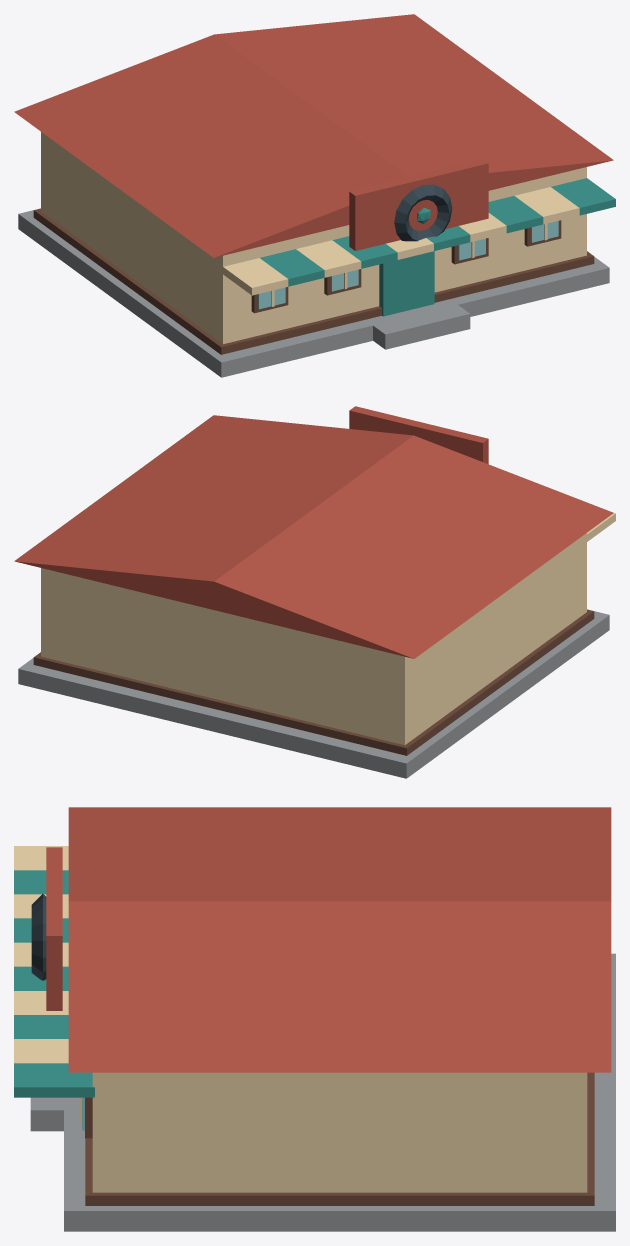
The model's file is storefront_records.glb.
3 renders of one model, top to bottom at view 1: azimuth 30°, elevation 25°; view 2: azimuth 150°, elevation 25°; view 3: azimuth 270°, elevation 25°, orthographic. The views are drawn at different scales.
Parts seen in each view (by area): view 1: gable_roof, walls, foundation, signboard, cornice, step, door, vinyl, awning, awning.002, awning.001, awning.008 (+6 smaller); view 2: gable_roof, walls, foundation, cornice, signboard; view 3: gable_roof, walls, foundation, cornice, signboard, awning.009, awning.008, awning.007, vinyl, step, awning, awning.006 (+5 smaller).
Boxes of the visible parts, x1=… form: gable_roof: x1=14, y1=14, x2=613, y2=257; walls: x1=41, y1=132, x2=586, y2=344; foundation: x1=18, y1=210, x2=609, y2=377; signboard: x1=349, y1=159, x2=488, y2=250; cornice: x1=33, y1=208, x2=594, y2=354; step: x1=366, y1=299, x2=470, y2=349; door: x1=379, y1=251, x2=434, y2=316; vinyl: x1=394, y1=184, x2=452, y2=241; awning: x1=222, y1=258, x2=288, y2=295; awning.002: x1=296, y1=240, x2=361, y2=277; awning.001: x1=260, y1=249, x2=324, y2=286; awning.008: x1=514, y1=187, x2=579, y2=224; gable_roof: x1=14, y1=415, x2=613, y2=658; walls: x1=41, y1=533, x2=586, y2=745; foundation: x1=18, y1=611, x2=609, y2=778; cornice: x1=33, y1=609, x2=594, y2=755; signboard: x1=349, y1=406, x2=488, y2=464; gable_roof: x1=68, y1=807, x2=611, y2=1072; walls: x1=92, y1=1072, x2=587, y2=1192; foundation: x1=64, y1=953, x2=615, y2=1231; cornice: x1=85, y1=1072, x2=594, y2=1205; signboard: x1=46, y1=847, x2=62, y2=1010; awning.009: x1=14, y1=1063, x2=94, y2=1097; awning.008: x1=14, y1=1039, x2=68, y2=1063; awning.007: x1=14, y1=1015, x2=68, y2=1038; vinyl: x1=31, y1=894, x2=46, y2=980; step: x1=30, y1=1097, x2=78, y2=1131; awning: x1=14, y1=846, x2=68, y2=870; awning.006: x1=14, y1=991, x2=68, y2=1014.
Bounding box in the file's own units: 6.6 × 2.45 × 6.33.
